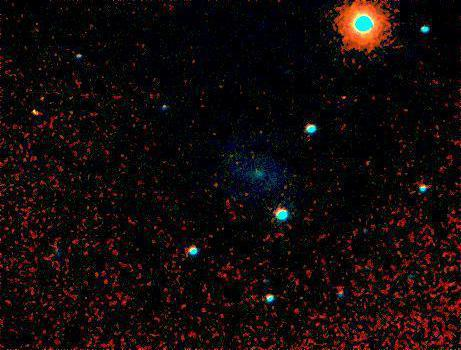star: (327, 85, 357, 115)
